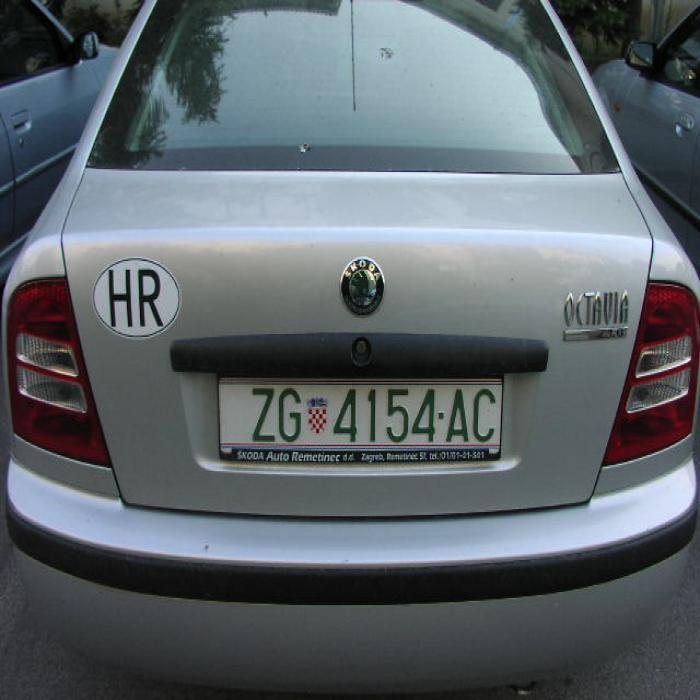number_plate: (219, 382, 499, 445)
